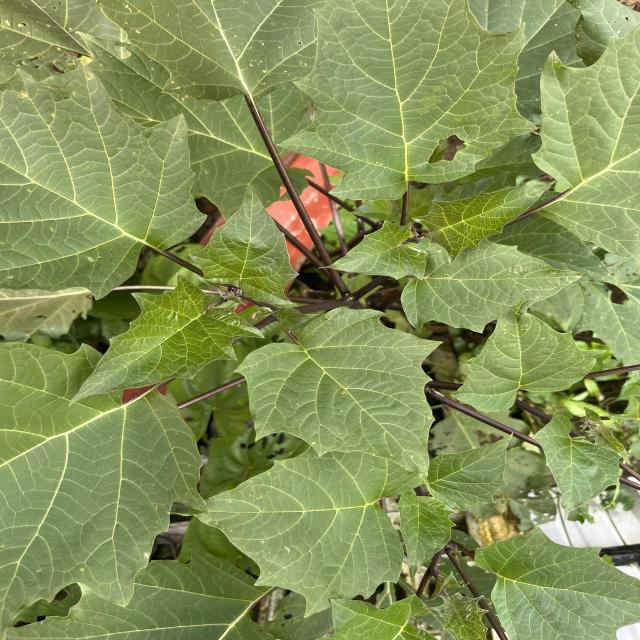Datura metal linn: (273, 0, 542, 203), (162, 445, 422, 621), (230, 305, 448, 498), (65, 269, 268, 412), (447, 298, 608, 416), (185, 180, 303, 310), (409, 179, 557, 267), (317, 218, 430, 282), (430, 430, 516, 513), (392, 490, 458, 585)
